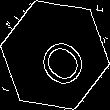O_NW: (23, 22, 87, 88)
